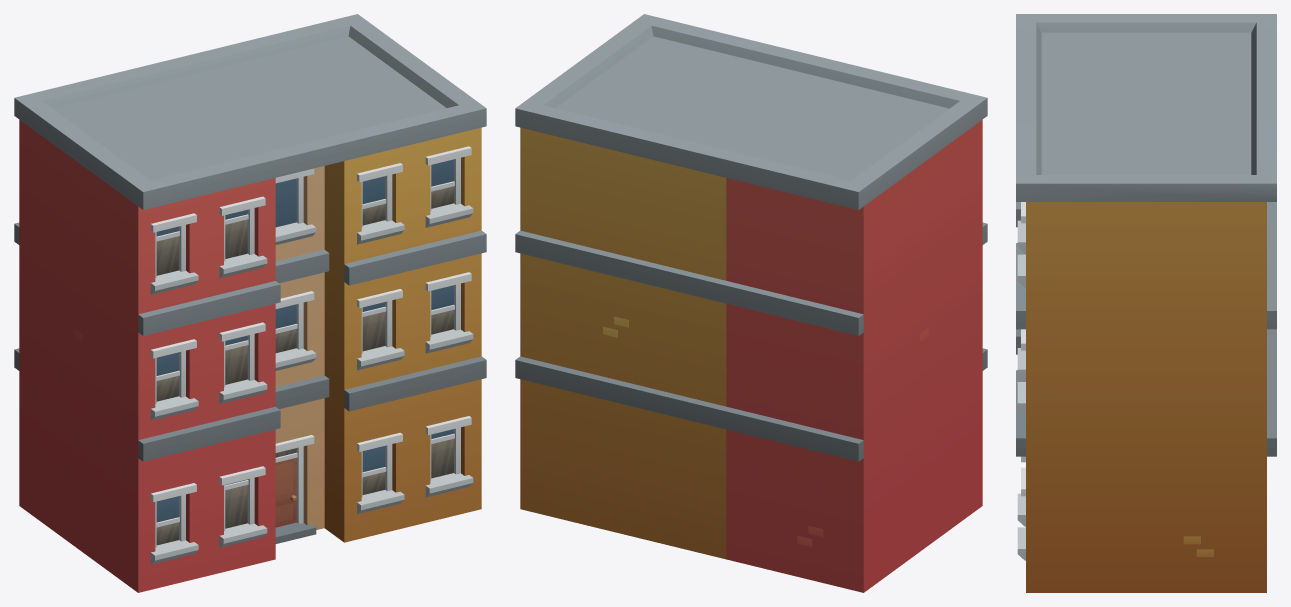
File: shop_f.glb
3 views of the same model, side by side, from view 1: azimuth 30°, elevation 25°; view 2: azimuth 150°, elevation 25°; view 3: azimuth 270°, elevation 25° (orthographic).
Visible parts, largest first — view 1: building_F_withoutBase; view 2: building_F_withoutBase; view 3: building_F_withoutBase.
Part boxes in pixels (x1=…): building_F_withoutBase: x1=14, y1=14, x2=486, y2=592; building_F_withoutBase: x1=515, y1=14, x2=987, y2=592; building_F_withoutBase: x1=1016, y1=14, x2=1276, y2=592.
Bounding box in the file's own units: 2.01 × 2.25 × 1.3.
Materials: 1 (1 with a texture image).
